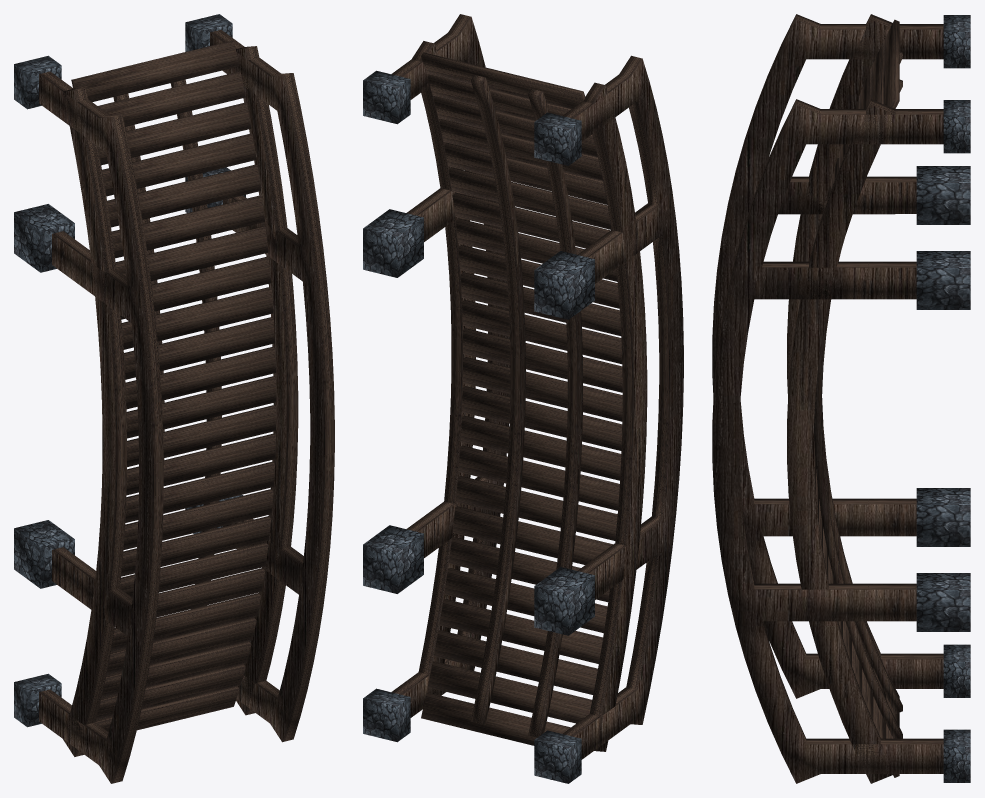
The model's file is bridge.obj.
3 renders of one model, left to right at view 1: azimuth 30°, elevation 25°; view 2: azimuth 150°, elevation 25°; view 3: azimuth 270°, elevation 25°, orthographic.
Parts seen in each view (by area): view 1: bridge; view 2: bridge; view 3: bridge.
Part boxes in pixels (x1,y1,x2,y2): bridge: [14, 14, 334, 783]; bridge: [363, 14, 683, 783]; bridge: [712, 14, 970, 783].
Bounding box in the file's own units: 89.7 × 278 × 95.84.
2 materials, 2 textured.
